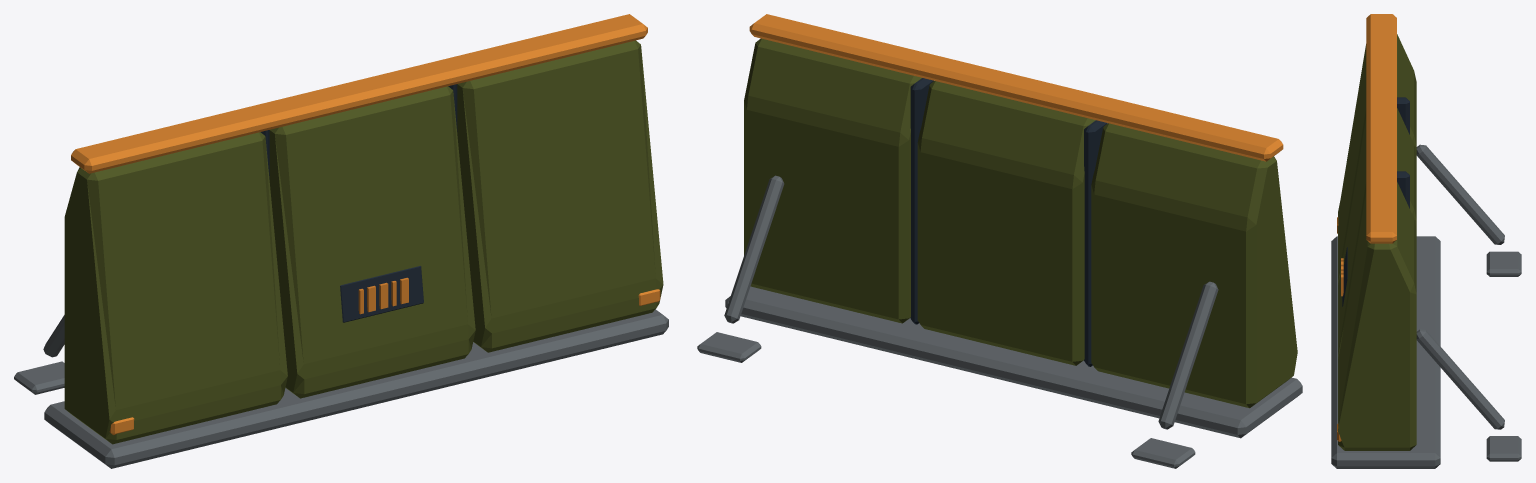
Rendered from deployable_barricade.obj.
The picture shows the model from 3 angles, left to right: view 1: azimuth 30°, elevation 25°; view 2: azimuth 150°, elevation 25°; view 3: azimuth 270°, elevation 25°; orthographic projection. The views are drawn at different scales.
Visible parts, largest first — view 1: deployable_barricade; view 2: deployable_barricade; view 3: deployable_barricade.
Part boxes in pixels (x1,y1,x2,y2): deployable_barricade: [14, 14, 668, 468]; deployable_barricade: [697, 14, 1302, 468]; deployable_barricade: [1331, 14, 1521, 468].
Size of the model in its own units: 2.4 by 1.2 by 0.87.
